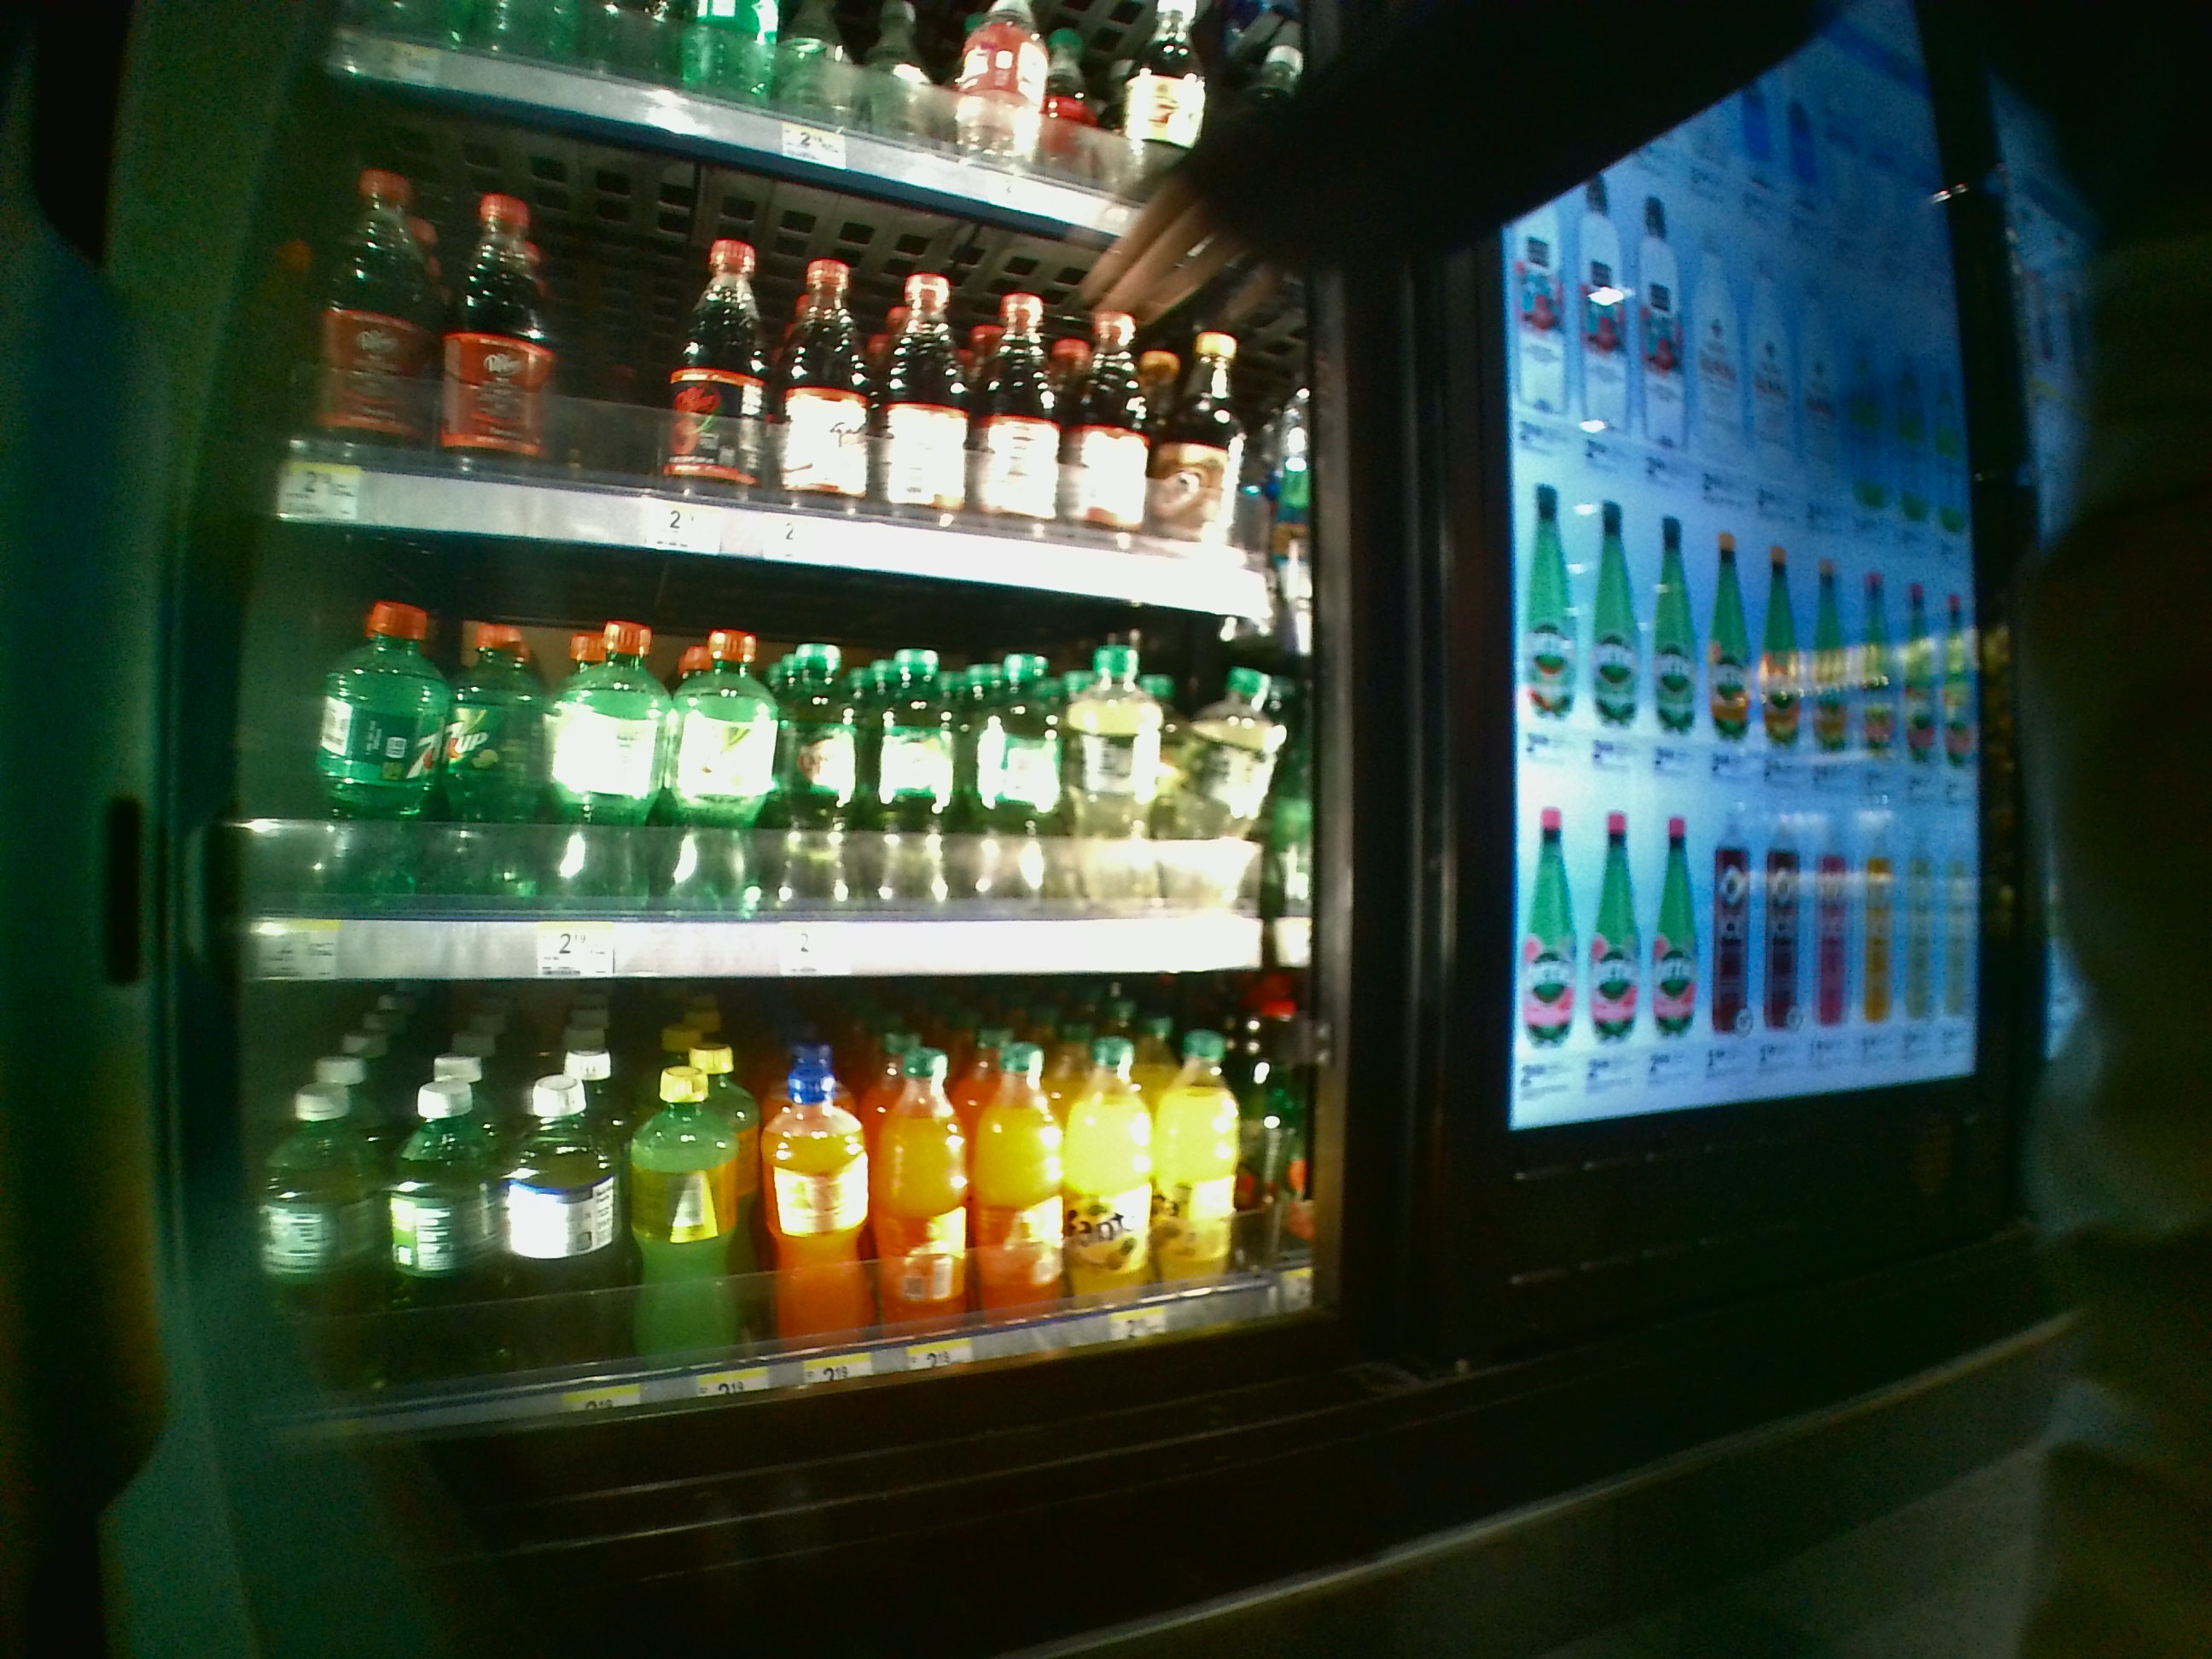shelf: (246, 985, 1310, 1439)
